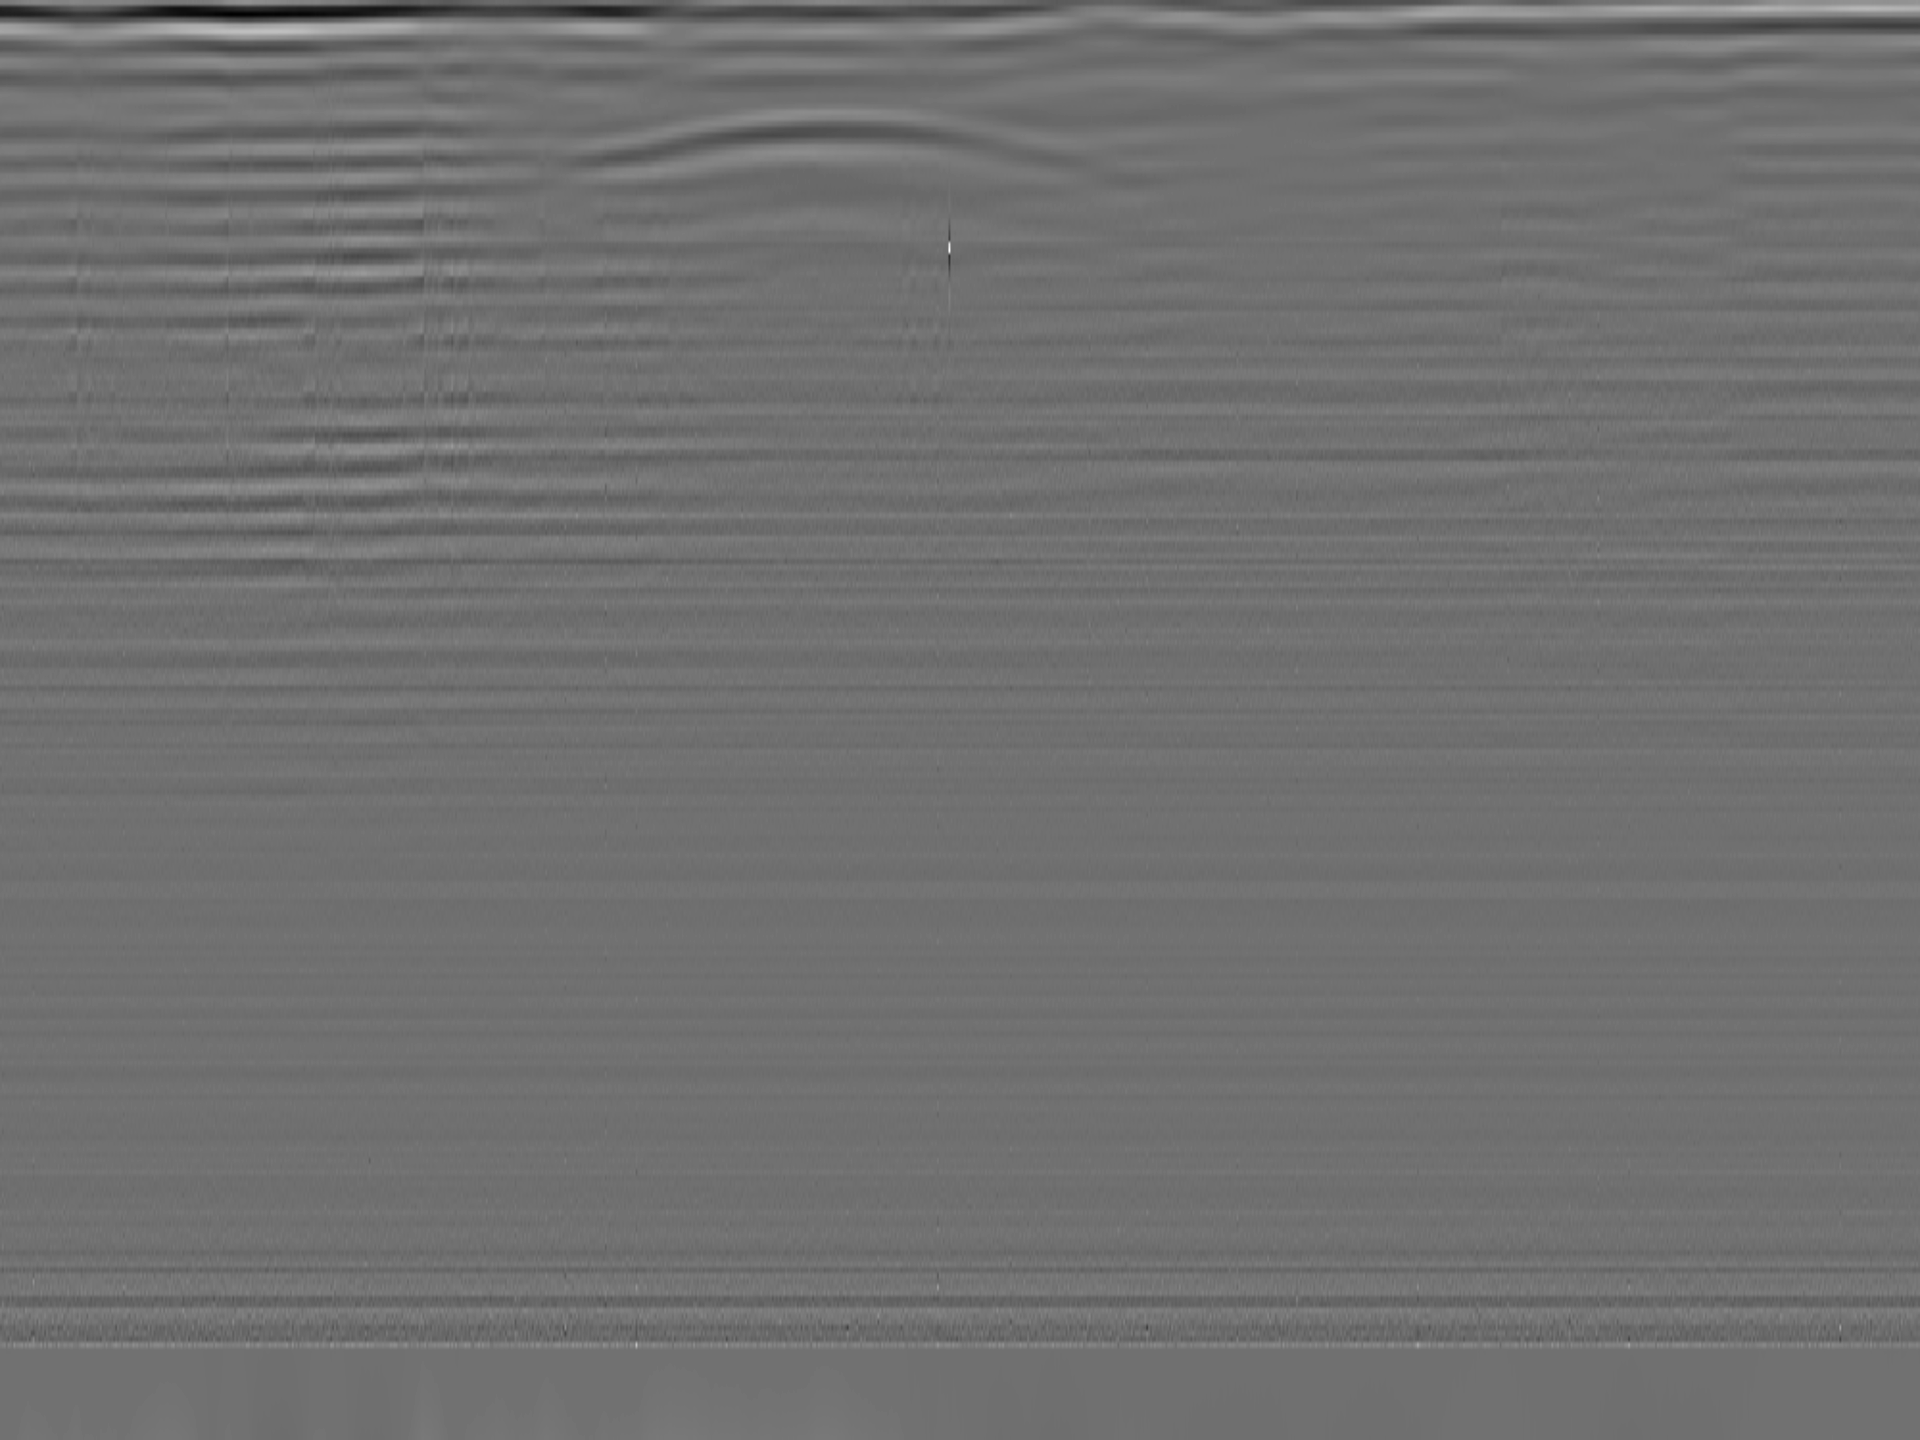Tunnel: (556, 106, 1147, 182)
